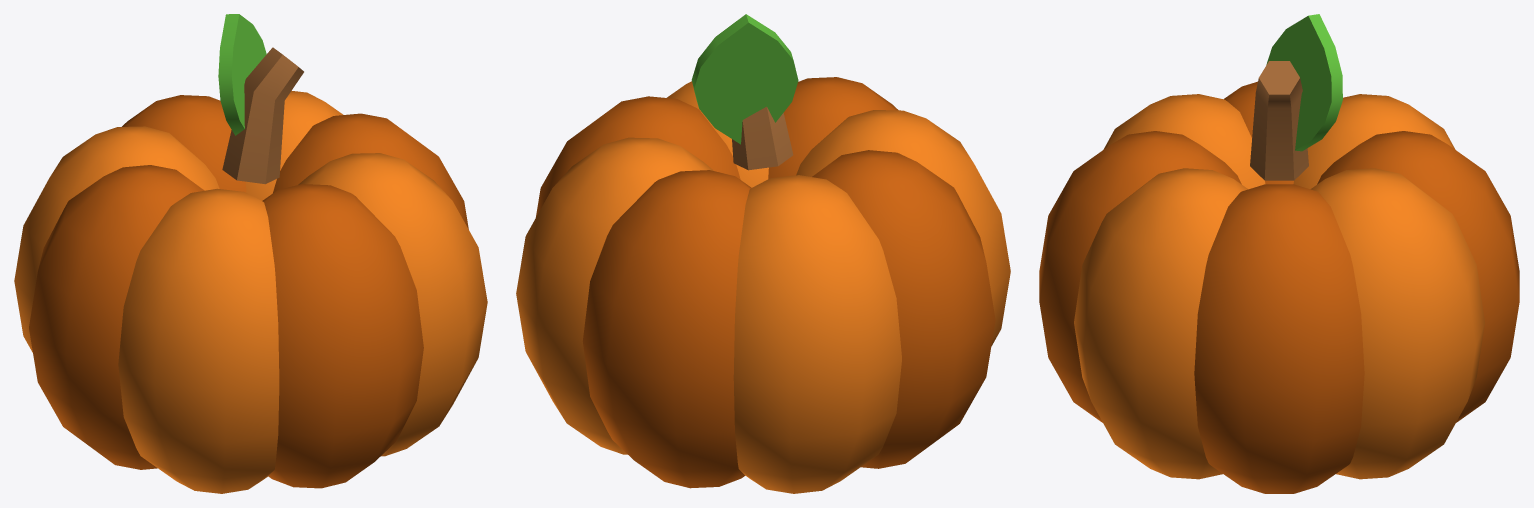
The model's file is Pumpkin.fbx.
The picture shows the model from 3 angles, left to right: view 1: azimuth 30°, elevation 25°; view 2: azimuth 150°, elevation 25°; view 3: azimuth 270°, elevation 25°; orthographic projection. The views are drawn at different scales.
Parts seen in each view (by area): view 1: Pumpkin; view 2: Pumpkin; view 3: Pumpkin.
Boxes of the visible parts, left/top/right/bottom form: Pumpkin: left=14, top=14, right=487, bottom=493; Pumpkin: left=516, top=14, right=1010, bottom=493; Pumpkin: left=1039, top=14, right=1519, bottom=493.
Bounding box in the file's own units: 1.62 × 1.57 × 1.62.
Materials: 1 (1 with a texture image).
